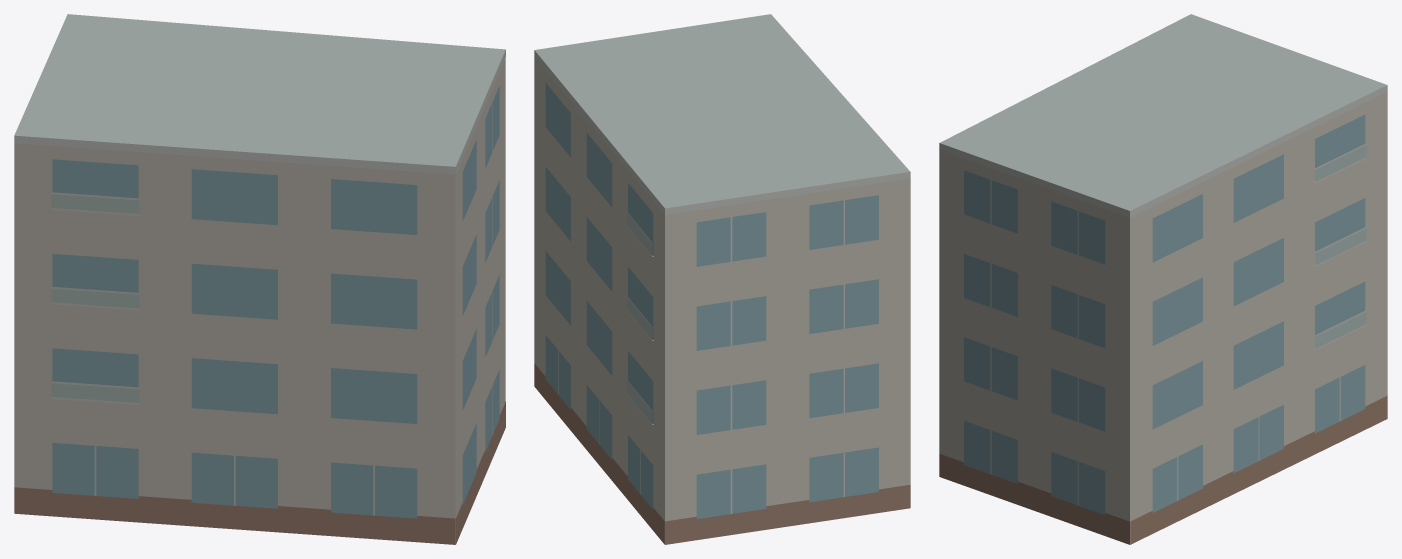
File: survey-upis-32893614.glb
3 renders of one model, left to right at view 1: azimuth 30°, elevation 25°; view 2: azimuth 150°, elevation 25°; view 3: azimuth 270°, elevation 25°, orthographic. The views are drawn at different scales.
Visible parts, largest first — view 1: survey-upis-32893614.tmp; view 2: survey-upis-32893614.tmp; view 3: survey-upis-32893614.tmp.
Boxes of the visible parts, left/top/right/bottom form: survey-upis-32893614.tmp: left=14, top=14, right=505, bottom=544; survey-upis-32893614.tmp: left=534, top=14, right=910, bottom=544; survey-upis-32893614.tmp: left=939, top=14, right=1387, bottom=544.
Size of the model in its own units: 15.45 by 12.2 by 14.85.
